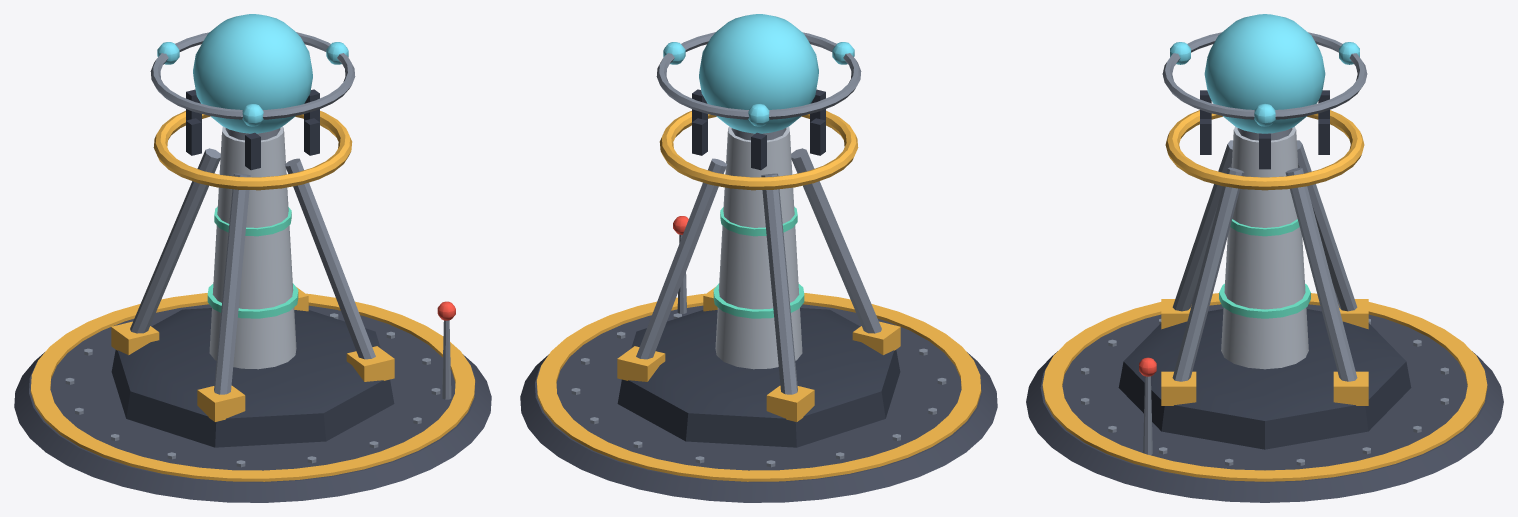
The model's file is schild.obj.
3 views of the same model, side by side, from view 1: azimuth 30°, elevation 25°; view 2: azimuth 150°, elevation 25°; view 3: azimuth 270°, elevation 25° (orthographic).
Visible parts, largest first — view 1: schild_Koerper, schild_Dreh; view 2: schild_Koerper, schild_Dreh; view 3: schild_Koerper, schild_Dreh.
Boxes of the visible parts, box(x1,y1,x2,y2) form: schild_Koerper: box(14, 14, 491, 502); schild_Dreh: box(150, 32, 355, 126); schild_Koerper: box(520, 14, 997, 502); schild_Dreh: box(656, 32, 861, 126); schild_Koerper: box(1026, 14, 1503, 502); schild_Dreh: box(1162, 32, 1367, 126).
Size of the model in its own units: 4.9 by 4.33 by 4.9.
